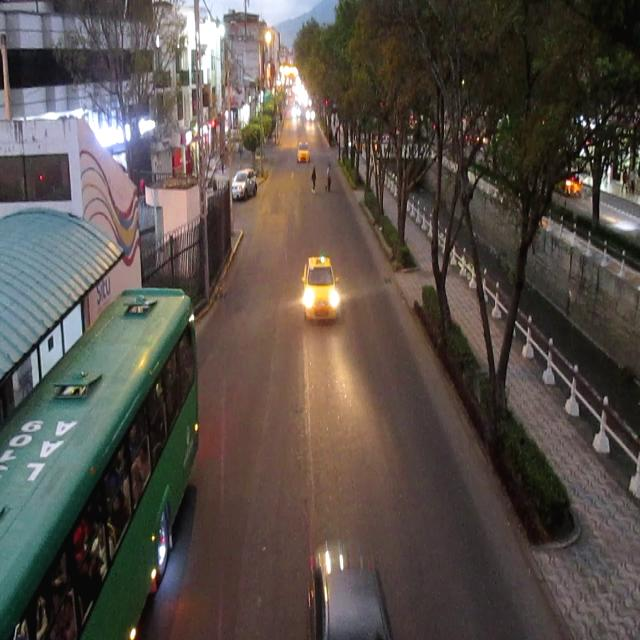BUS: (3, 288, 203, 638)
SUV: (234, 170, 258, 200)
